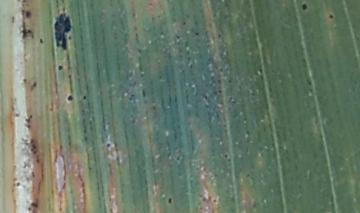tarspot: (52, 11, 73, 50), (20, 18, 35, 42), (27, 137, 38, 156), (23, 114, 34, 131), (28, 79, 38, 92), (64, 93, 74, 103), (300, 2, 309, 12), (304, 77, 313, 87), (166, 195, 174, 205), (24, 10, 32, 19), (10, 13, 16, 25), (29, 201, 39, 208), (202, 94, 209, 104), (141, 87, 147, 98), (327, 12, 335, 20), (174, 34, 182, 42), (174, 154, 181, 163), (216, 31, 223, 40), (34, 155, 41, 164), (21, 76, 29, 83), (222, 152, 230, 159), (13, 111, 19, 120), (105, 142, 112, 149), (211, 197, 218, 204), (38, 37, 44, 45), (181, 19, 187, 27), (15, 180, 21, 188), (81, 95, 88, 101), (57, 64, 63, 71), (193, 31, 199, 37)
